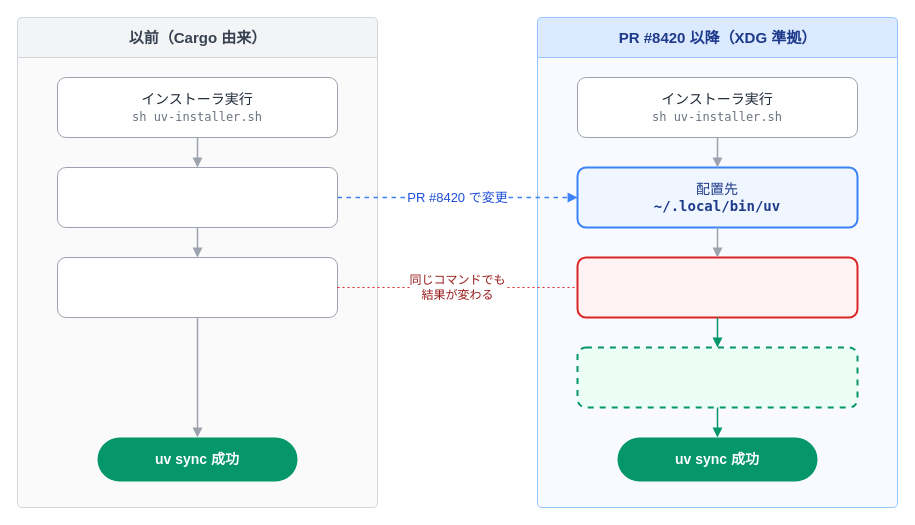
This 915x525 diagram has some shape labels left out. Each missing label, with the centre of its shape:
. $HOME/.cargo/env No such file → ビルド失敗: pixel 717 287
. $HOME/.cargo/env で PATH が通る: pixel 197 287
Dockerfile に追加 ENV PATH="/root/.local/bin:$PATH": pixel 717 377
配置先 ~/.cargo/bin/uv: pixel 197 197
